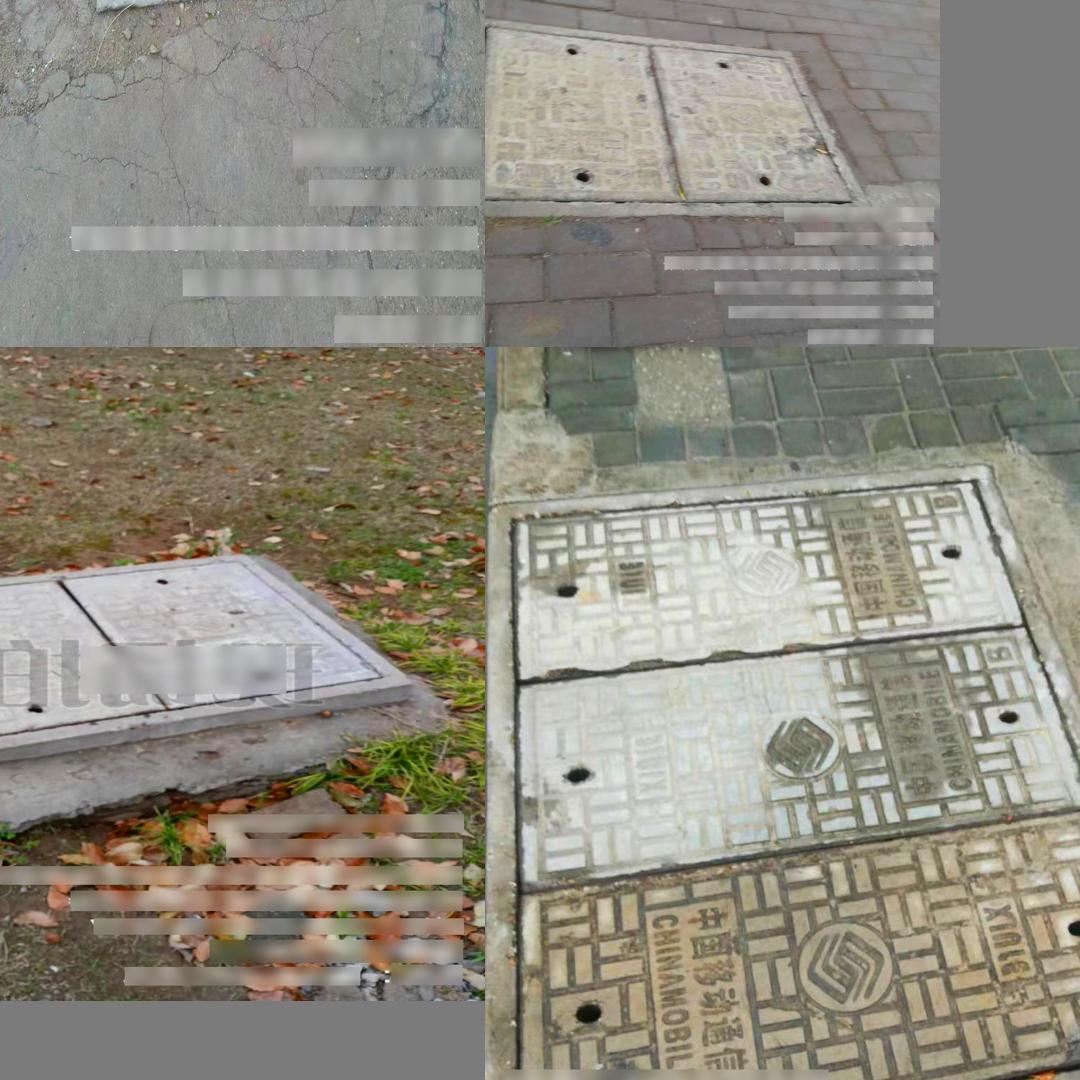good: (487, 463, 1080, 1080), (0, 554, 413, 780), (485, 16, 868, 217)
